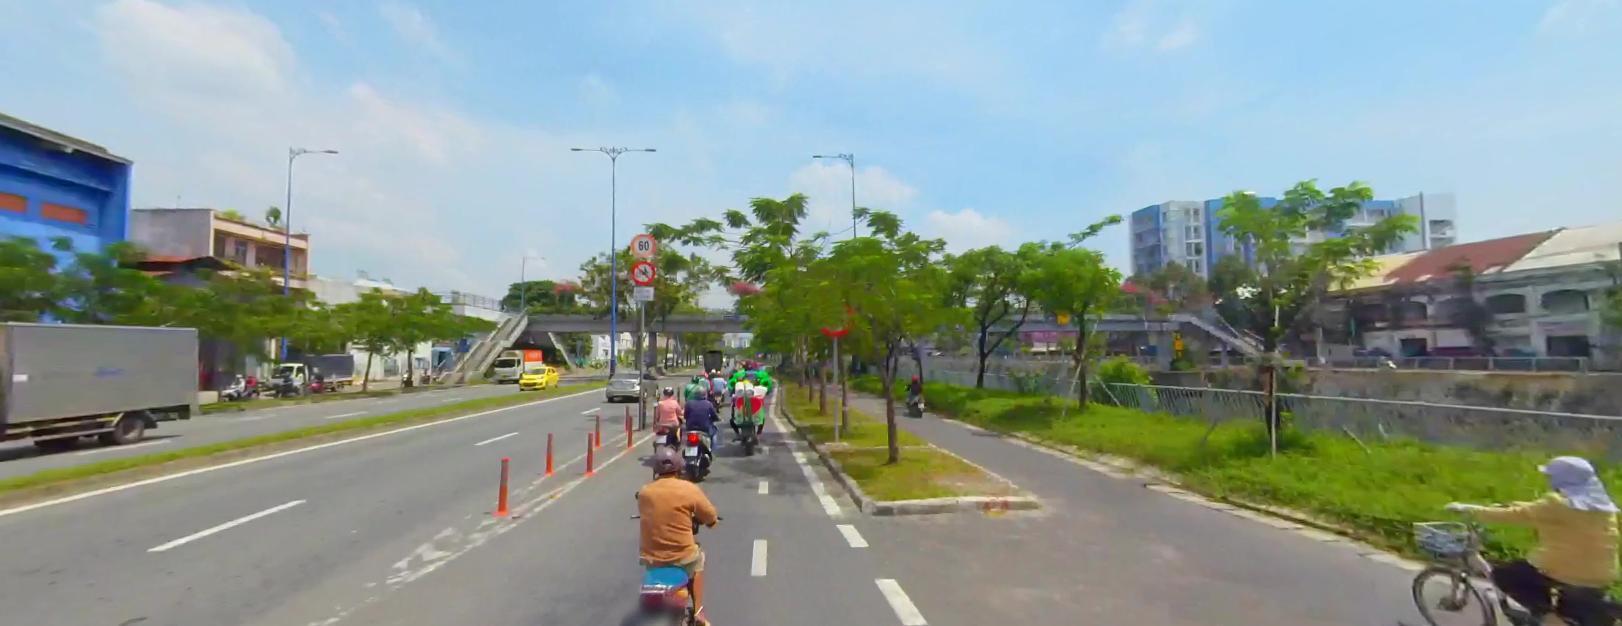Cam con lai: (818, 296, 852, 335), (632, 260, 655, 284)
Gioi han toc do: (630, 231, 655, 255)
